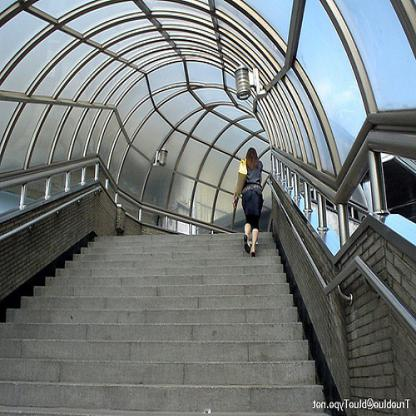stairs: (51, 275, 287, 416)
